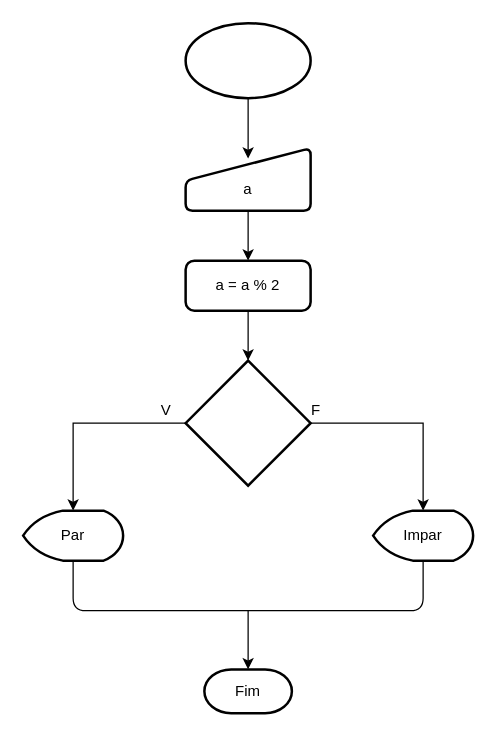
Some shapes in this 495 by 735 pixel diagram are drawn without their labels. Here are the shapes that lost their labels. From the top down, the box of each, then its label:
(184, 21, 311, 99): Inicio
(184, 359, 311, 486): a == 0
